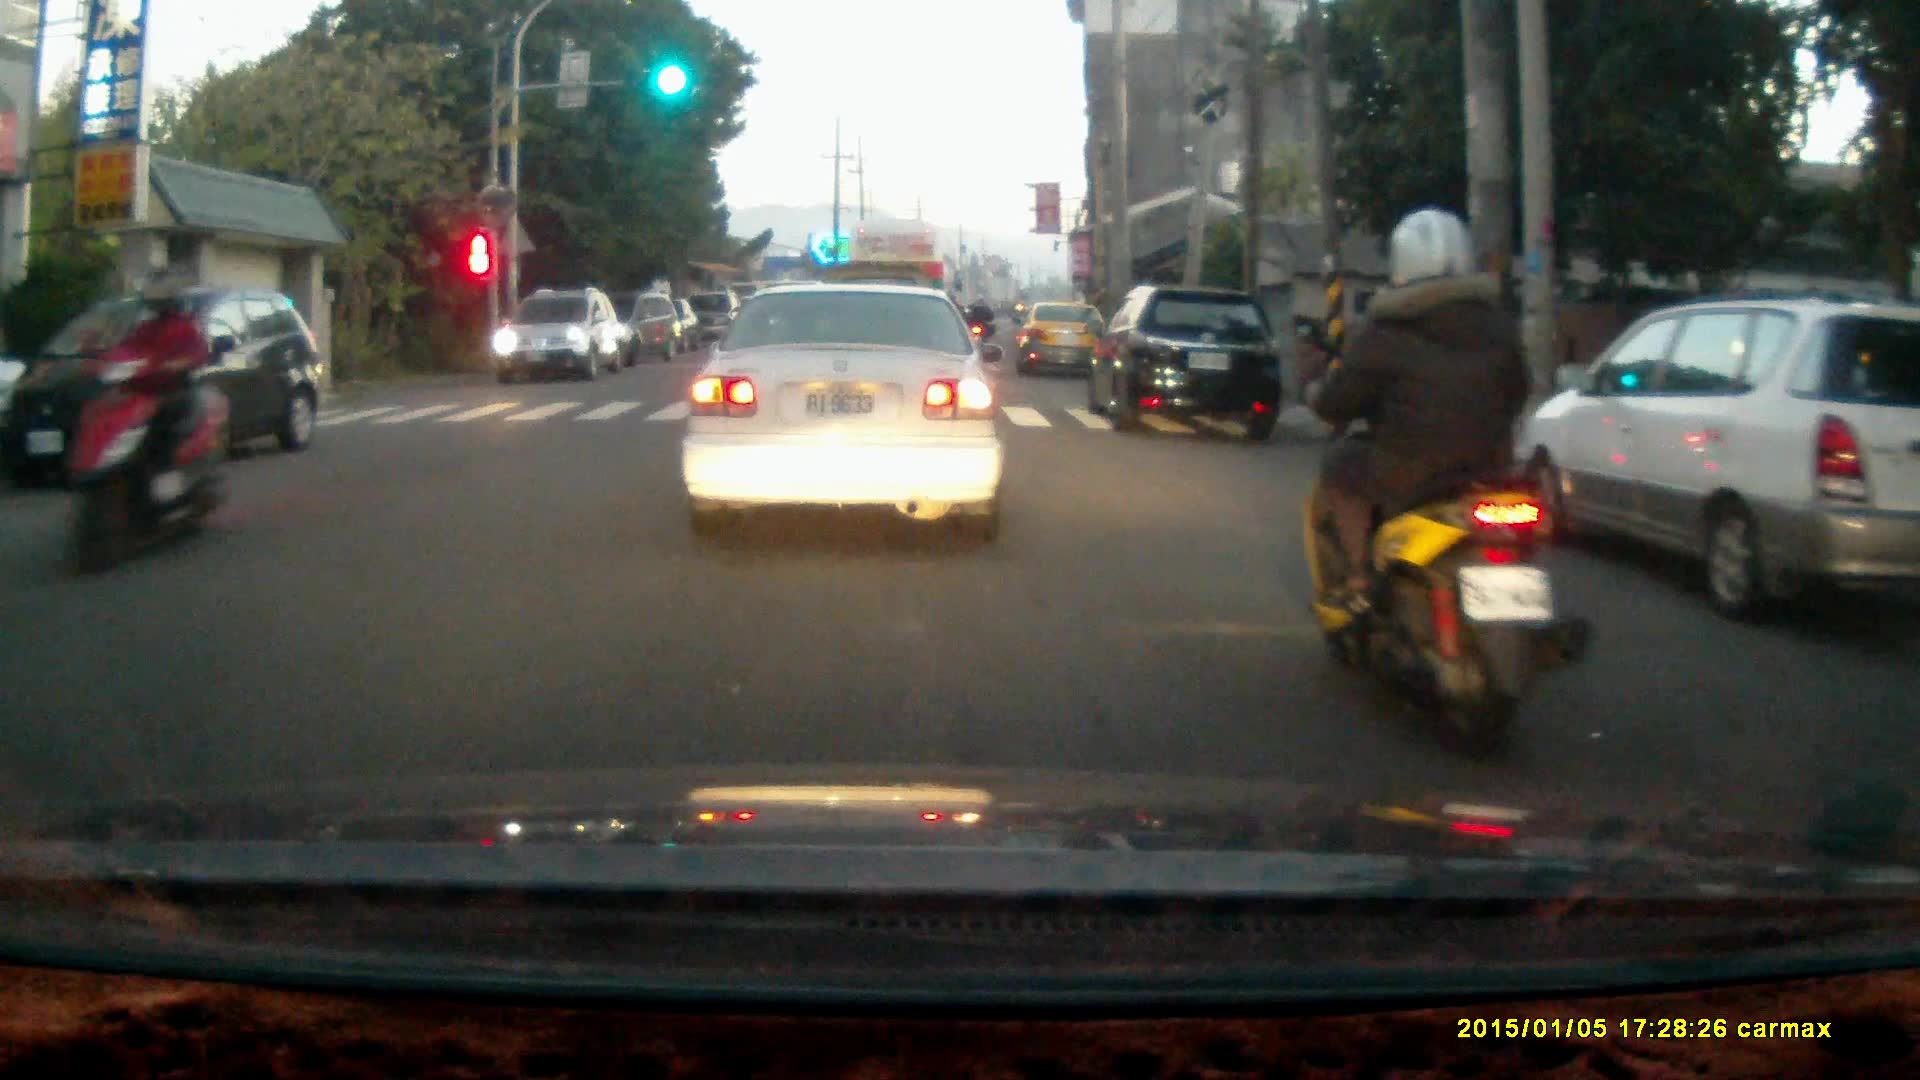rider: (1287, 208, 1601, 756), (63, 264, 231, 585)
vehicle: (1520, 297, 1920, 618), (683, 274, 1006, 540), (2, 282, 323, 496), (1087, 278, 1280, 432), (838, 215, 954, 363), (491, 293, 625, 384), (562, 286, 683, 366), (1016, 298, 1115, 381)
